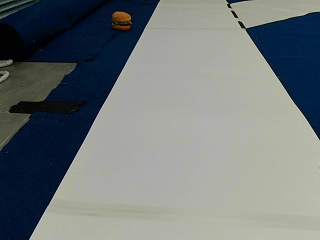burger: (111, 9, 132, 30)
